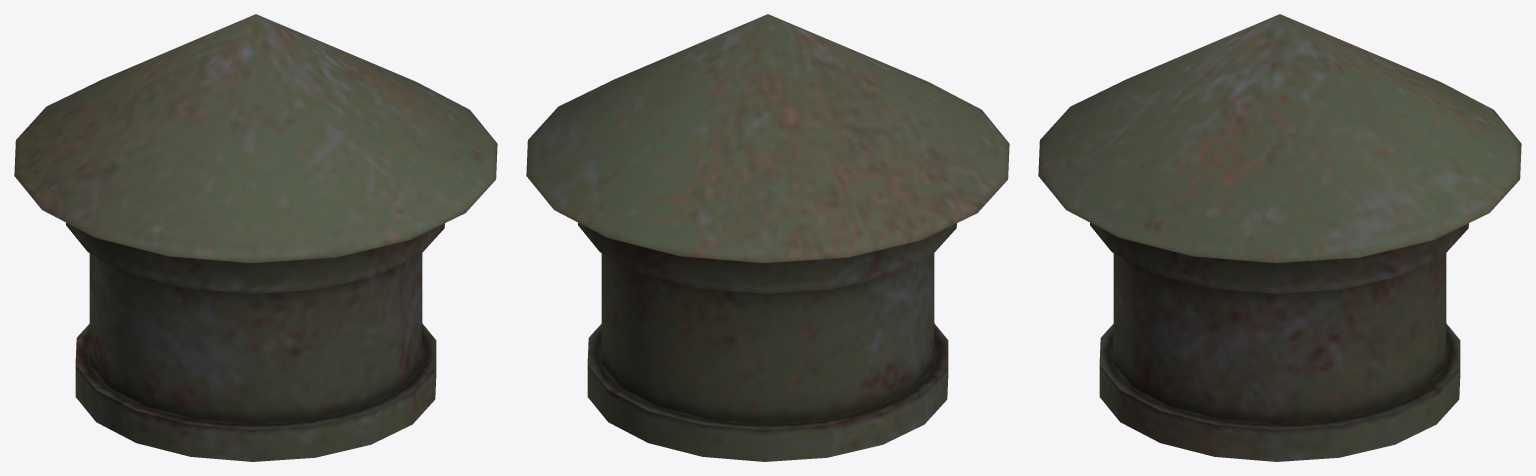
The model's file is Vent_04.fbx.
3 renders of one model, left to right at view 1: azimuth 30°, elevation 25°; view 2: azimuth 150°, elevation 25°; view 3: azimuth 270°, elevation 25°, orthographic.
Parts seen in each view (by area): view 1: Vent_4; view 2: Vent_4; view 3: Vent_4.
Part boxes in pixels (bbox=[...]): Vent_4: bbox=[14, 14, 497, 461]; Vent_4: bbox=[526, 14, 1009, 461]; Vent_4: bbox=[1038, 14, 1521, 461].
Bounding box in the file's own units: 55.63 × 46.53 × 54.95.
